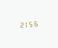five: (28, 20, 32, 27)
one: (23, 20, 27, 28)
six: (33, 19, 37, 27)
two: (18, 20, 22, 28)
